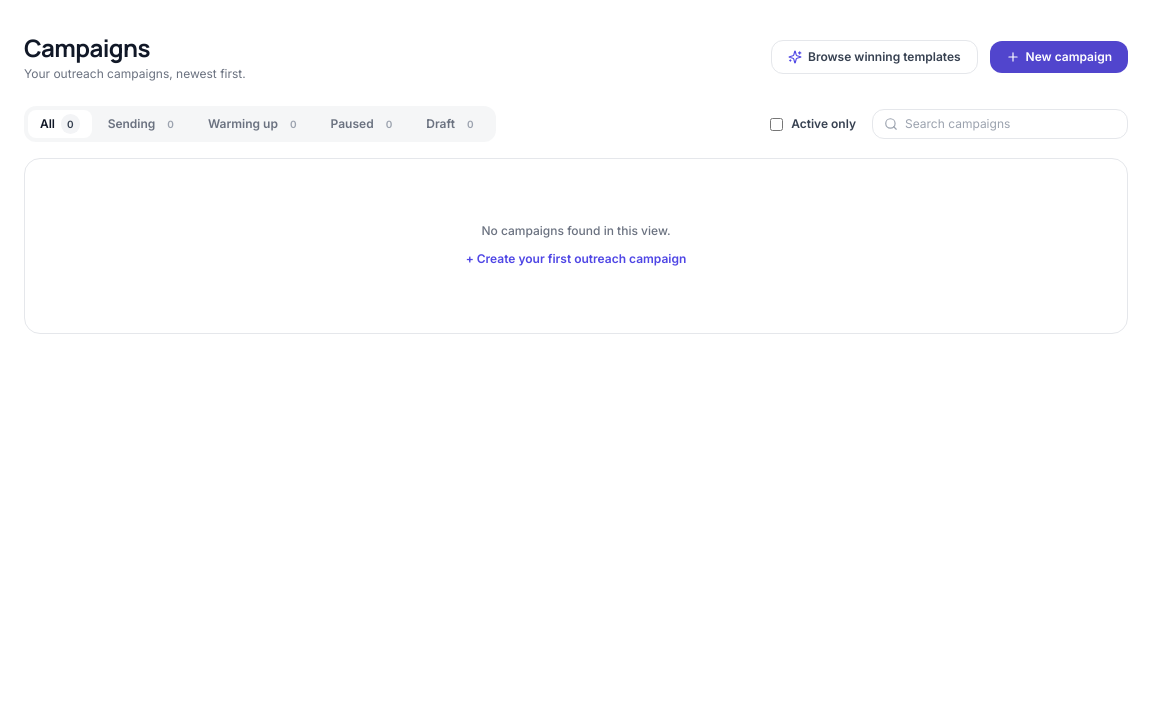
Scenario: original status confirmation is historical and the gallery fetches current later details
This screenshot has width=1152, height=720.
Click the button "Browse winning templates" at {"x": 874, "y": 57}, box [771,40,978,74]
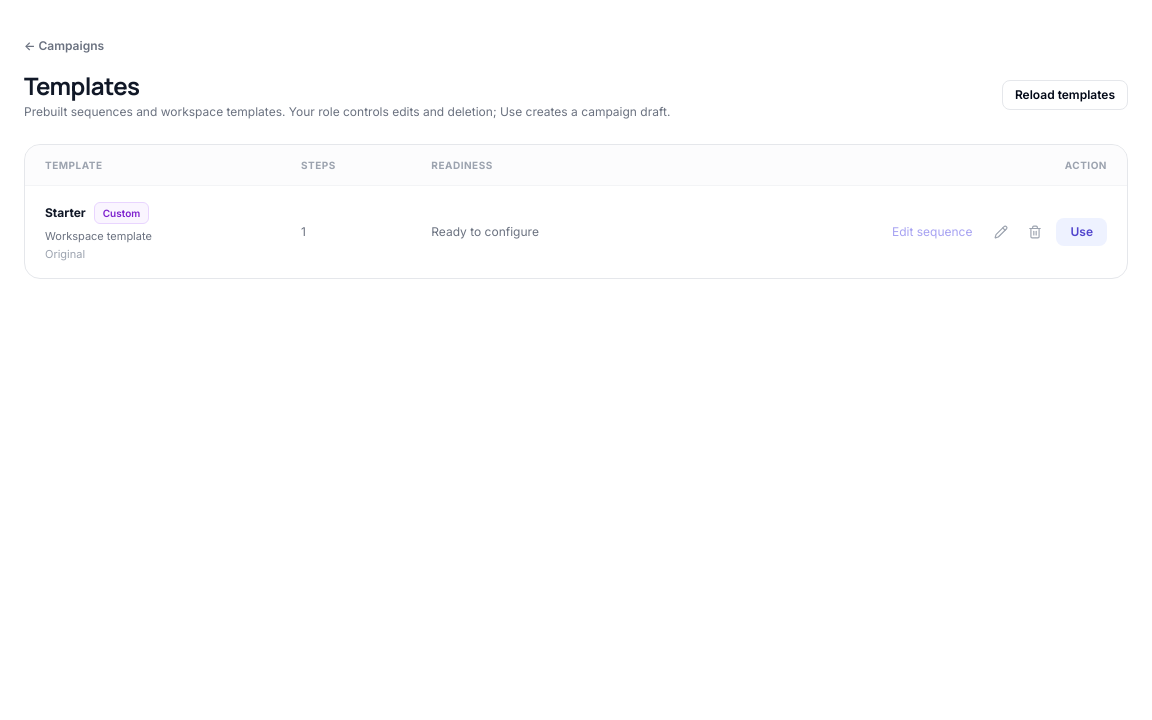
Click the button named "Edit template details Starter" at {"x": 1002, "y": 232}, box [988,219,1014,245]
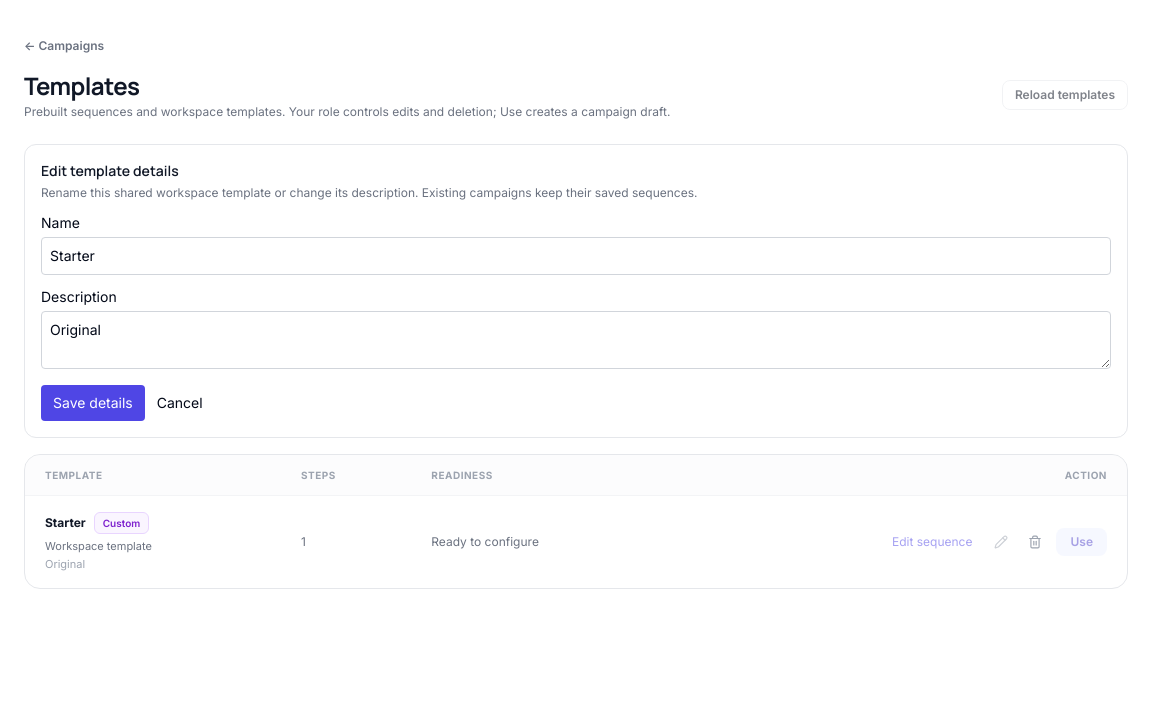
Click the button "Save details" at {"x": 93, "y": 403}, box [41,385,145,421]
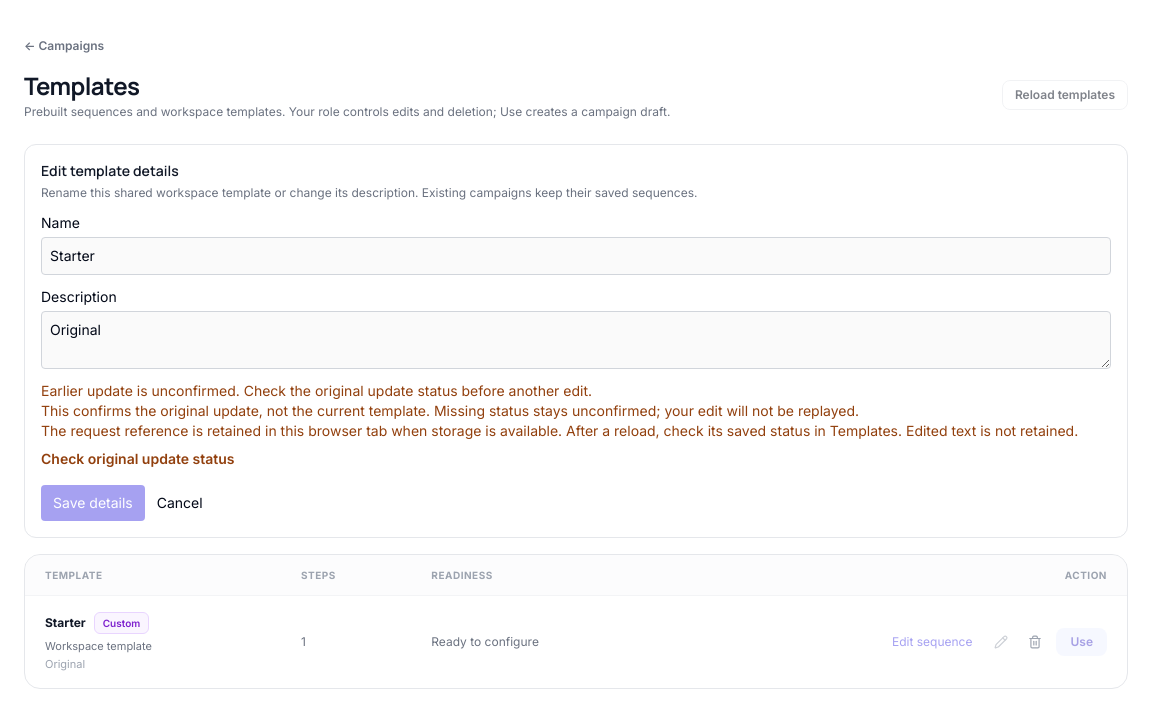
Expected: the button "Use" is disabled, [1056,628,1107,656]
Click the button "Check original update status" at {"x": 138, "y": 459}, box [41,449,234,469]
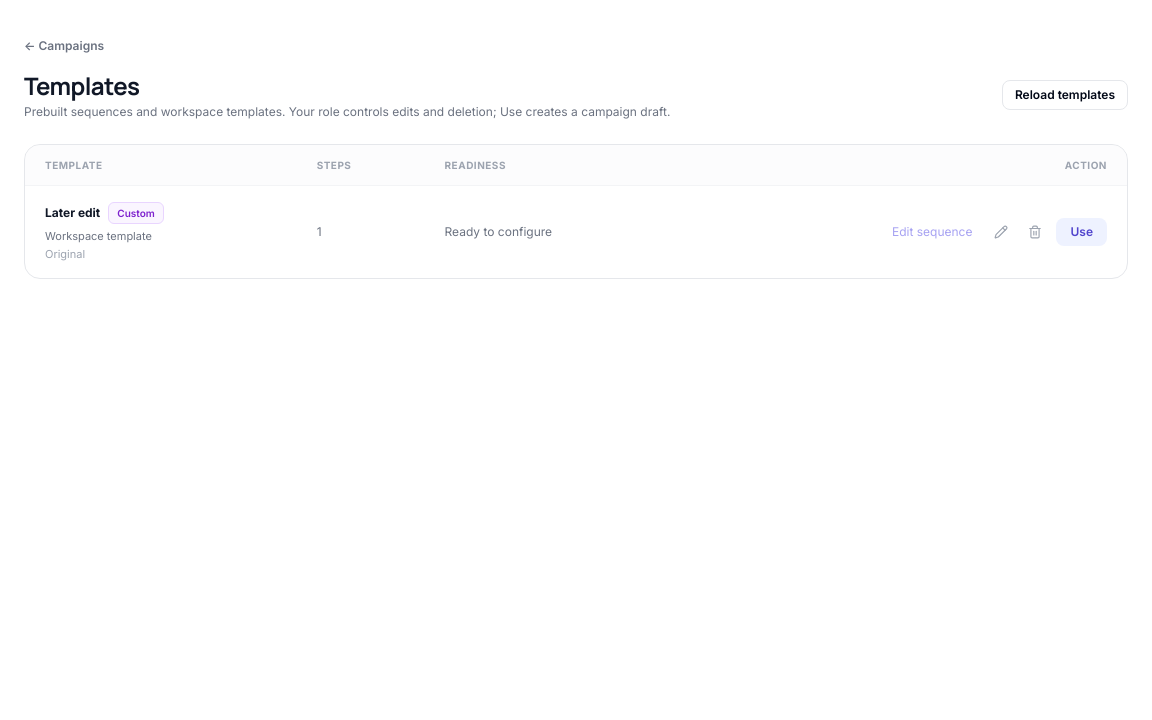
Expected: the button named "Edit template details Later edit" is enabled, [988,219,1014,245]
